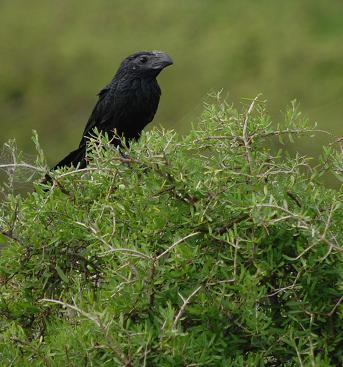004.Groove_billed_Ani: (41, 48, 175, 187)
